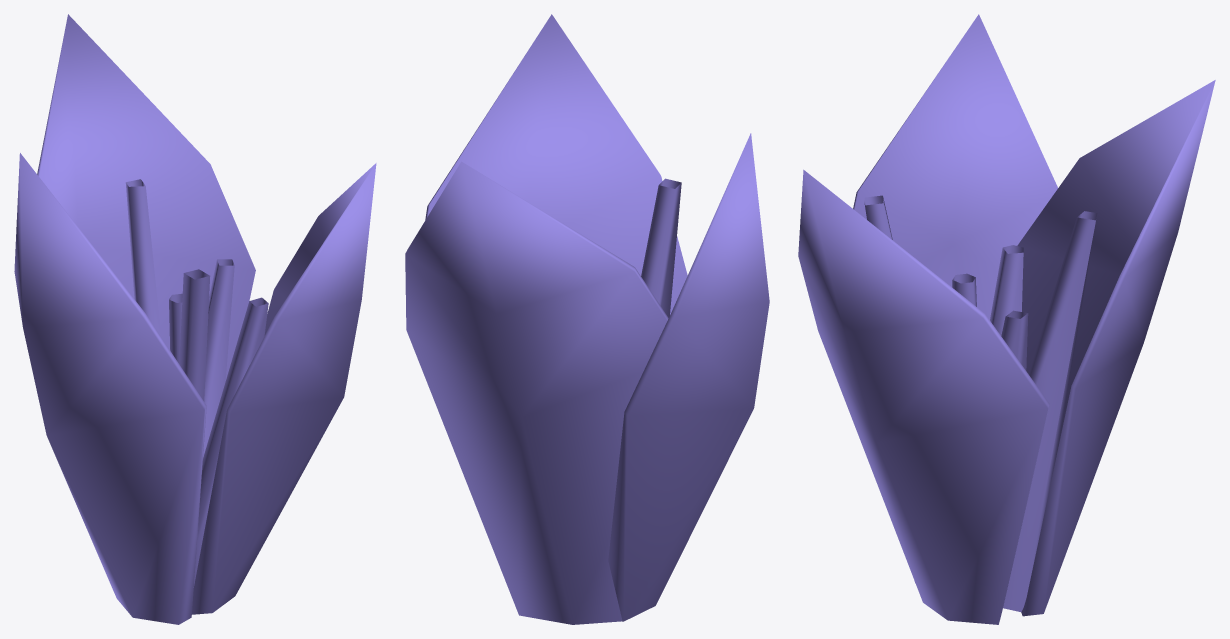
File: roselleBase.fbx
3 renders of one model, left to right at view 1: azimuth 30°, elevation 25°; view 2: azimuth 150°, elevation 25°; view 3: azimuth 270°, elevation 25°, orthographic. The views are drawn at different scales.
Parts seen in each view (by area): view 1: roselleBase; view 2: roselleBase; view 3: roselleBase.
Part boxes in pixels (x1,y1,x2,y2): roselleBase: [14, 14, 376, 624]; roselleBase: [405, 14, 769, 624]; roselleBase: [798, 14, 1215, 624].
Bounding box in the file's own units: 40.92 × 62.41 × 45.32.
